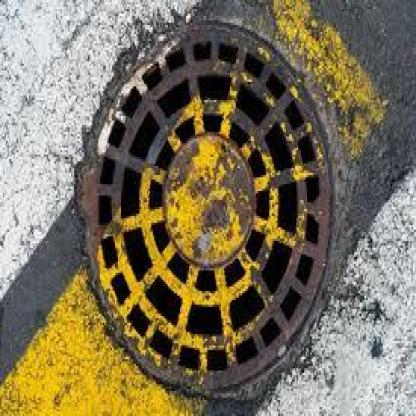manholes: (51, 4, 366, 416)
